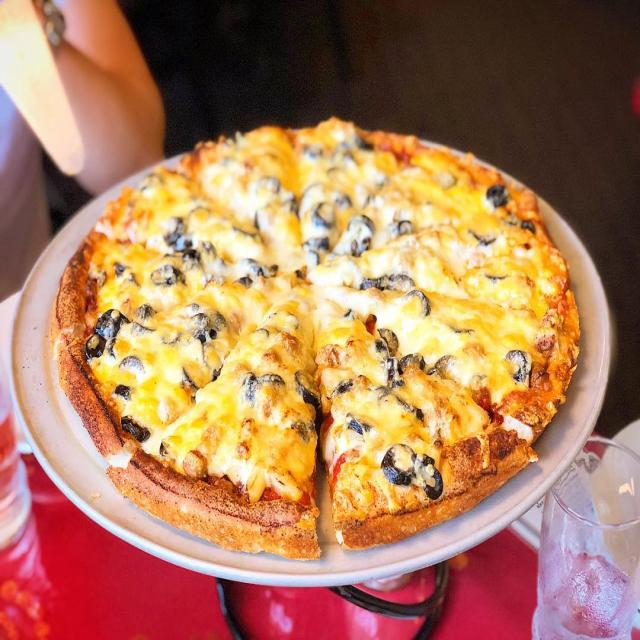black_olives: (381, 440, 415, 486), (413, 454, 443, 499), (380, 392, 423, 423), (292, 366, 322, 408), (94, 308, 130, 342), (505, 348, 531, 387), (237, 256, 279, 280), (120, 413, 151, 445), (150, 263, 187, 287), (405, 288, 431, 322), (429, 354, 458, 384), (84, 331, 114, 359), (344, 411, 376, 435), (328, 374, 356, 401), (312, 203, 338, 231), (484, 182, 510, 209), (388, 272, 416, 296), (377, 326, 398, 357), (190, 318, 217, 342), (346, 216, 378, 236), (398, 353, 426, 375), (361, 274, 389, 296), (302, 233, 332, 253), (386, 357, 404, 387), (182, 364, 200, 393), (166, 214, 182, 246), (242, 369, 258, 399), (120, 356, 146, 373), (350, 237, 372, 257), (182, 248, 202, 269), (332, 190, 353, 210), (259, 175, 280, 195), (393, 220, 416, 237), (200, 239, 216, 260), (232, 275, 254, 290), (257, 372, 284, 384), (174, 235, 193, 252), (303, 143, 323, 159), (353, 134, 373, 150), (114, 384, 133, 400), (112, 260, 132, 275), (376, 339, 388, 364), (137, 304, 155, 320), (343, 306, 357, 321), (520, 220, 534, 232)
pizza: (50, 112, 583, 564)
